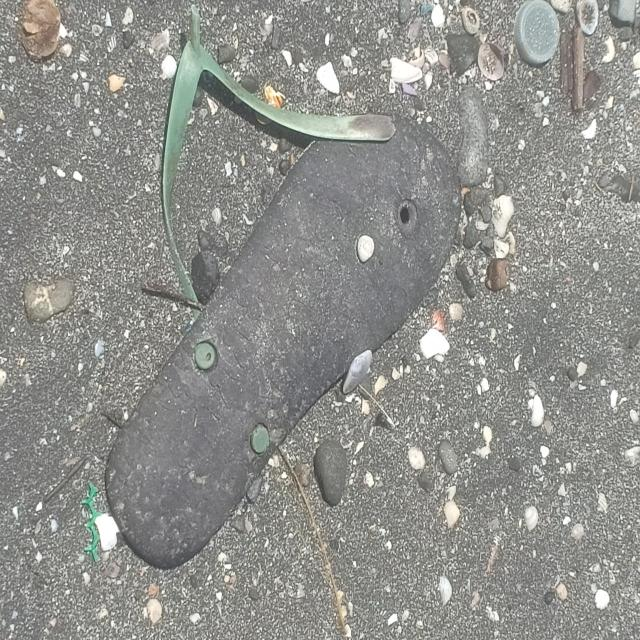plastic_waste: (514, 1, 562, 67)
rubber_waste: (104, 112, 465, 572)
